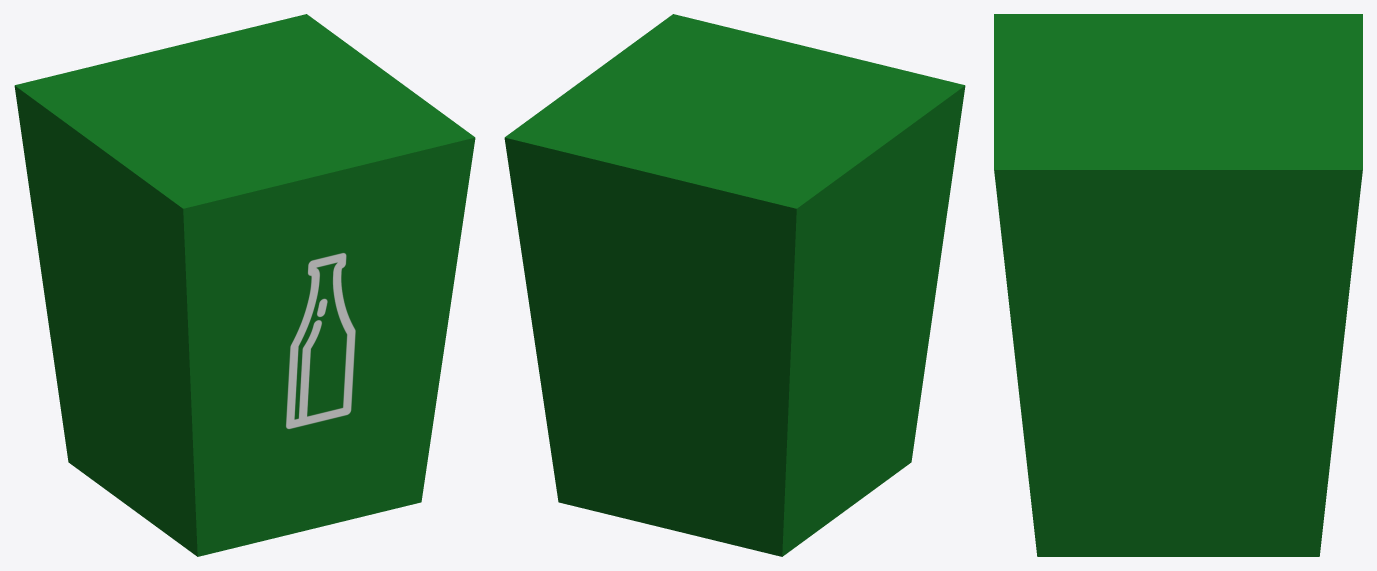
The model's file is GlassTrash.glb.
3 renders of one model, left to right at view 1: azimuth 30°, elevation 25°; view 2: azimuth 150°, elevation 25°; view 3: azimuth 270°, elevation 25°, orthographic. The views are drawn at different scales.
Parts seen in each view (by area): view 1: glass; view 2: glass; view 3: glass.
Part boxes in pixels (x1=…): glass: x1=14, y1=14, x2=475, y2=556; glass: x1=504, y1=14, x2=965, y2=556; glass: x1=994, y1=14, x2=1362, y2=556.
Bounding box in the file's own units: 0.4117 × 0.4993 × 0.4117.
2 materials, 1 textured.
